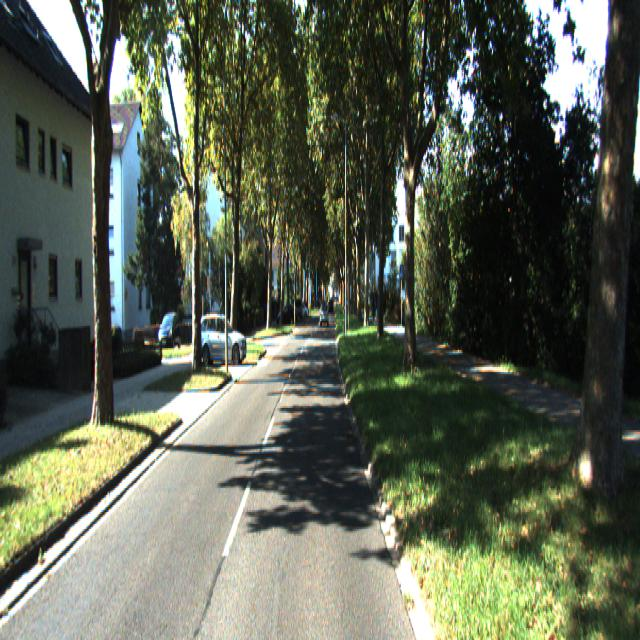Car: (194, 313, 248, 366)
